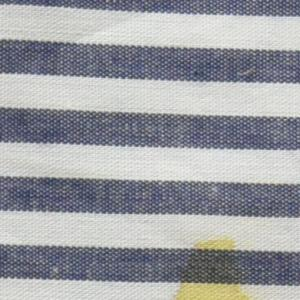Stain: (172, 237, 255, 300)
